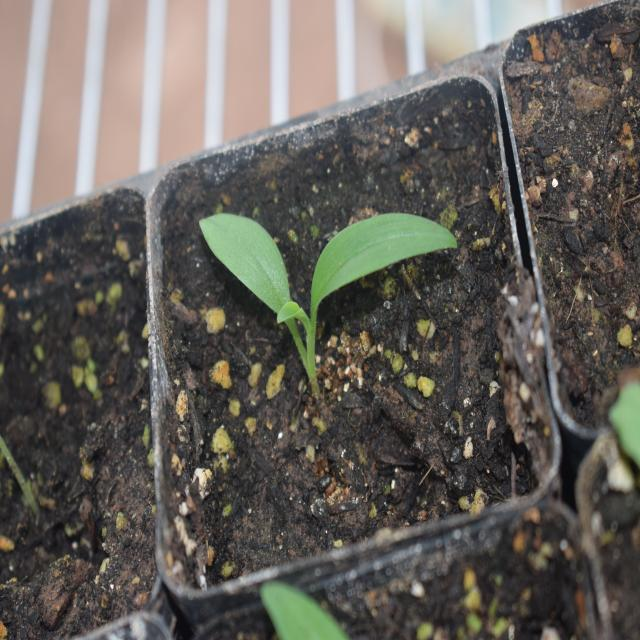Common Dayflower: (182, 171, 454, 371)
